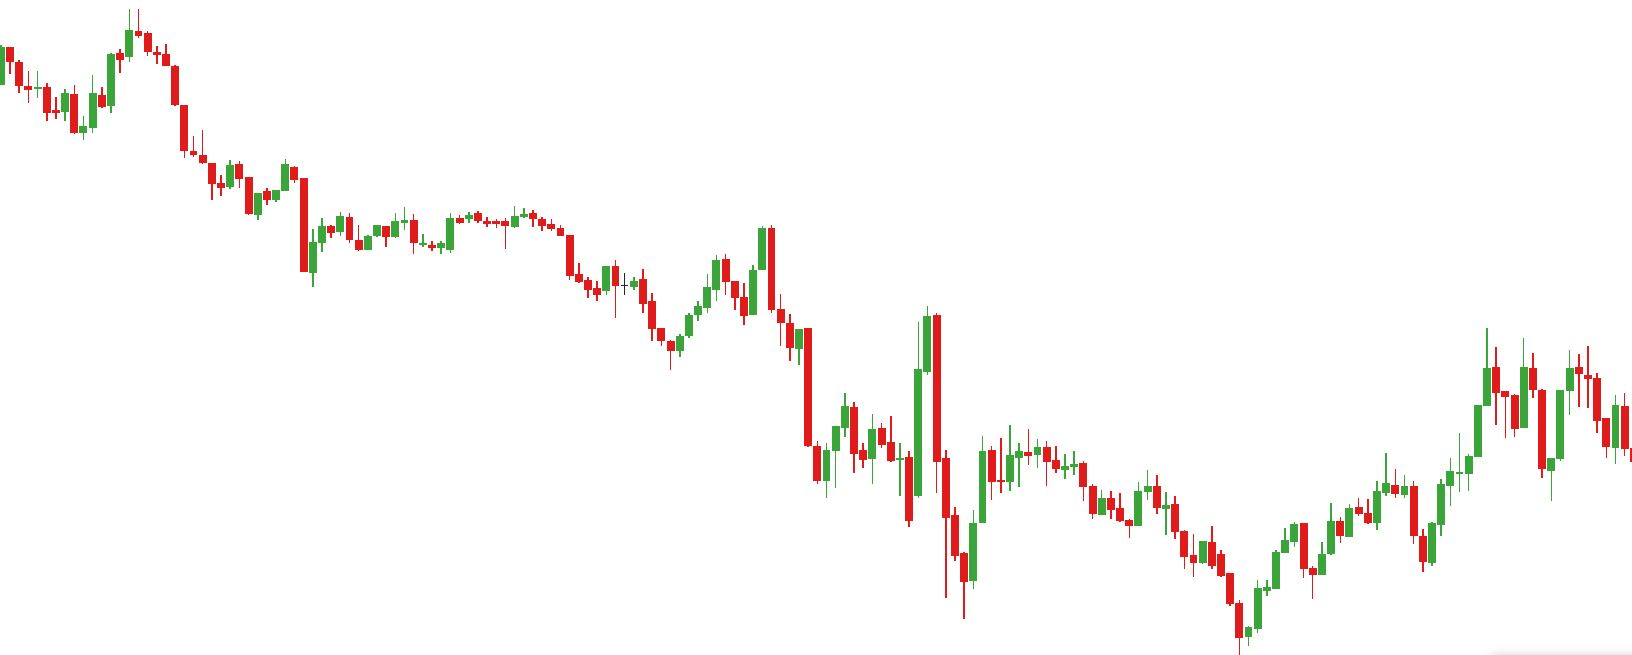sell: (838, 296, 948, 456), (711, 215, 777, 296)
